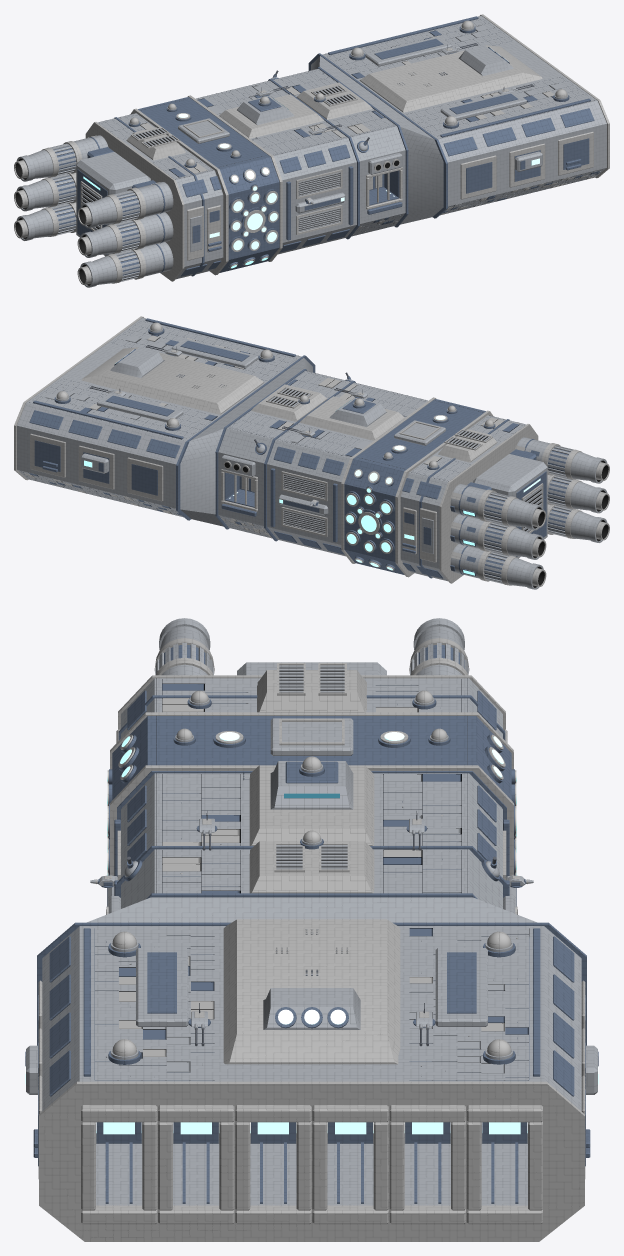
The model's file is 賽璐璐.glb.
The picture shows the model from 3 angles, top to bottom: view 1: azimuth 30°, elevation 25°; view 2: azimuth 150°, elevation 25°; view 3: azimuth 270°, elevation 25°; orthographic projection. The views are drawn at different scales.
Visible parts, largest first — view 1: bow_bow_mid, mid_mid, bow_light, bow_dark, bow_mid, ring_dark, stern_mid, stern_light, hangar_hull_mid, ring_light, engines.thruster.001, engines.thruster.003 (+14 smaller); view 2: bow_bow_mid, mid_mid, bow_light, bow_dark, bow_mid, ring_dark, stern_mid, stern_light, hangar_hull_mid, ring_light, engines.thruster, engines.thruster.002 (+14 smaller); view 3: bow_light, bow_bow_mid, bow_bow_light, bow_dark, bow_mid, mid_mid, ring_dark, hangar_hull_mid, stern_mid, ring_light, mid_light, stern_light (+10 smaller).
Part boxes in pixels (<box>): bow_bow_mid: <box>322,15,606,213</box>; mid_mid: <box>196,80,356,254</box>; bow_light: <box>359,45,593,199</box>; bow_dark: <box>308,16,594,227</box>; bow_mid: <box>311,36,542,224</box>; ring_dark: <box>138,97,279,272</box>; stern_mid: <box>76,113,223,279</box>; stern_light: <box>80,122,220,281</box>; hangar_hull_mid: <box>273,68,405,236</box>; ring_light: <box>130,95,282,275</box>; engines.thruster.001: <box>77,182,173,228</box>; engines.thruster.003: <box>77,212,173,257</box>; bow_bow_mid: <box>17,317,301,517</box>; mid_mid: <box>267,382,427,556</box>; bow_light: <box>30,347,264,501</box>; bow_dark: <box>29,318,315,529</box>; bow_mid: <box>81,338,312,526</box>; ring_dark: <box>344,399,485,574</box>; stern_mid: <box>400,415,547,581</box>; stern_light: <box>403,424,543,583</box>; hangar_hull_mid: <box>218,370,350,537</box>; ring_light: <box>341,397,493,577</box>; engines.thruster: <box>450,484,546,530</box>; engines.thruster.002: <box>450,514,546,559</box>; bow_light: <box>38,919,585,1224</box>; bow_bow_mid: <box>42,926,581,1205</box>; bow_bow_light: <box>39,1081,584,1241</box>; bow_dark: <box>25,893,598,1203</box>; bow_mid: <box>26,897,597,1094</box>; mid_mid: <box>107,761,516,906</box>; ring_dark: <box>109,716,514,875</box>; hangar_hull_mid: <box>121,849,502,908</box>; stern_mid: <box>121,662,502,737</box>; ring_light: <box>107,712,516,875</box>; mid_light: <box>117,765,506,880</box>; stern_light: <box>116,663,507,742</box>.
Bounding box in the file's own units: 1200 × 311 × 600.
Materials: 7 (4 with a texture image).
